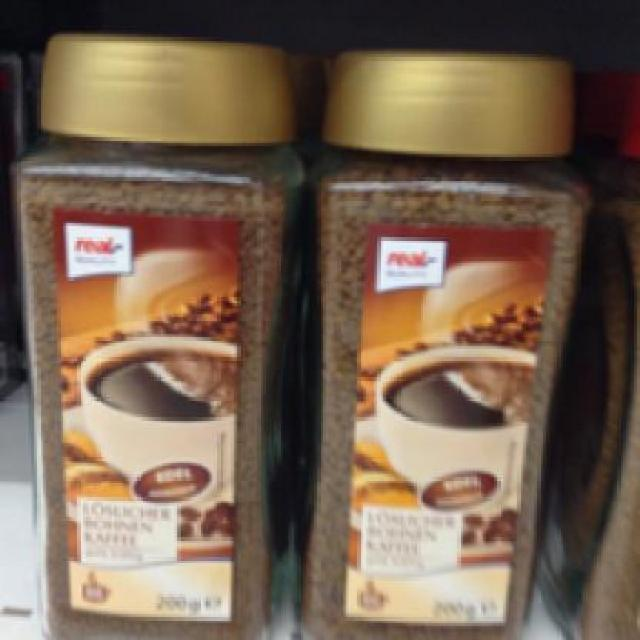Coffee: (6, 25, 303, 638), (294, 45, 594, 638)
